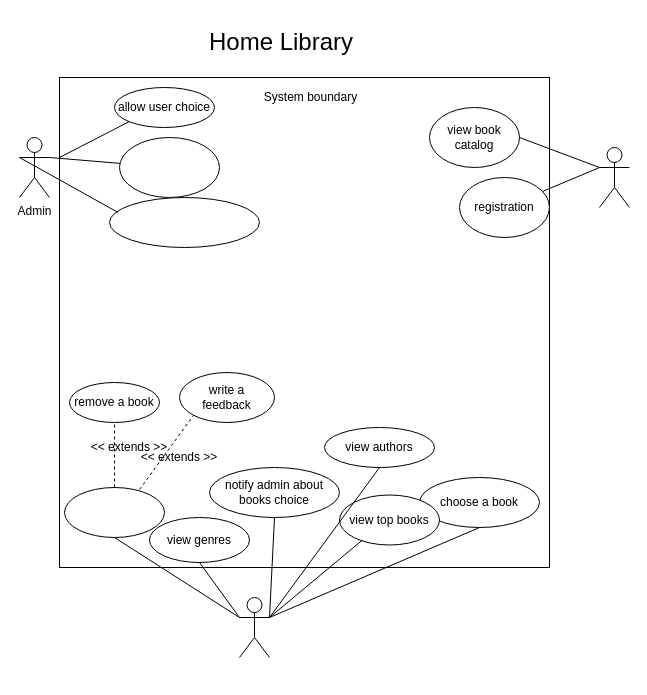
The diagram is 647 pixels wide and 695 high, and some of its shapes have lost their labels. The centre of each missing label's shape, as x and y in pixels:
"add / remove / update a book" goes at point (184, 222).
"Guest" goes at point (614, 177).
"User" goes at point (254, 627).
"view the user card" goes at point (114, 512).
"view the user card list" goes at point (169, 167).
